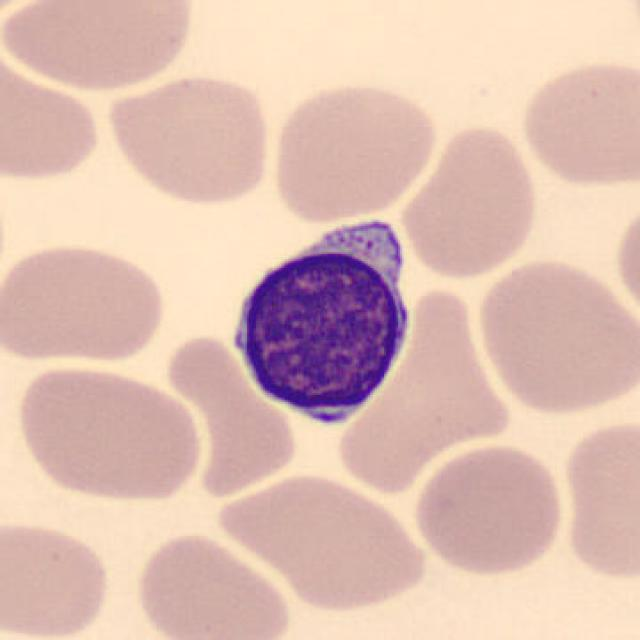Lymphocyte: (217, 203, 421, 435)
RBC: (332, 287, 526, 494), (212, 469, 432, 615), (11, 360, 206, 506), (471, 254, 637, 418), (267, 76, 441, 226), (102, 69, 276, 208), (397, 122, 542, 282), (158, 329, 296, 495), (0, 236, 171, 367), (409, 438, 567, 578), (1, 0, 204, 93), (130, 529, 295, 640), (516, 53, 638, 190), (0, 42, 107, 187), (0, 515, 116, 640), (556, 412, 638, 586), (611, 194, 640, 326)
